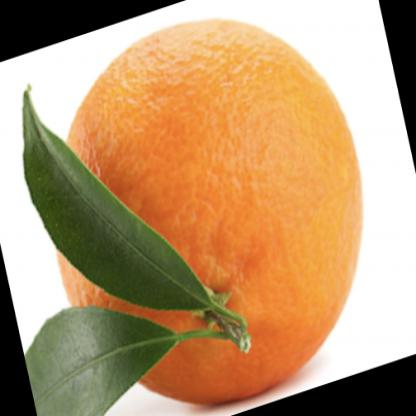orange: (40, 20, 374, 409)
